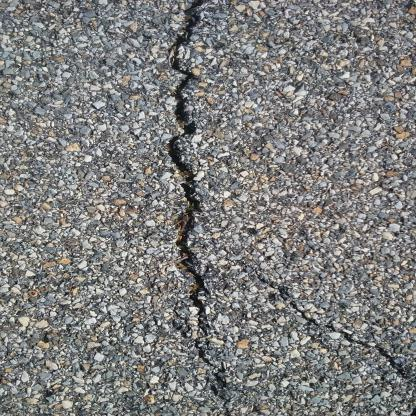Cracks: (143, 0, 231, 315), (265, 279, 413, 379)
